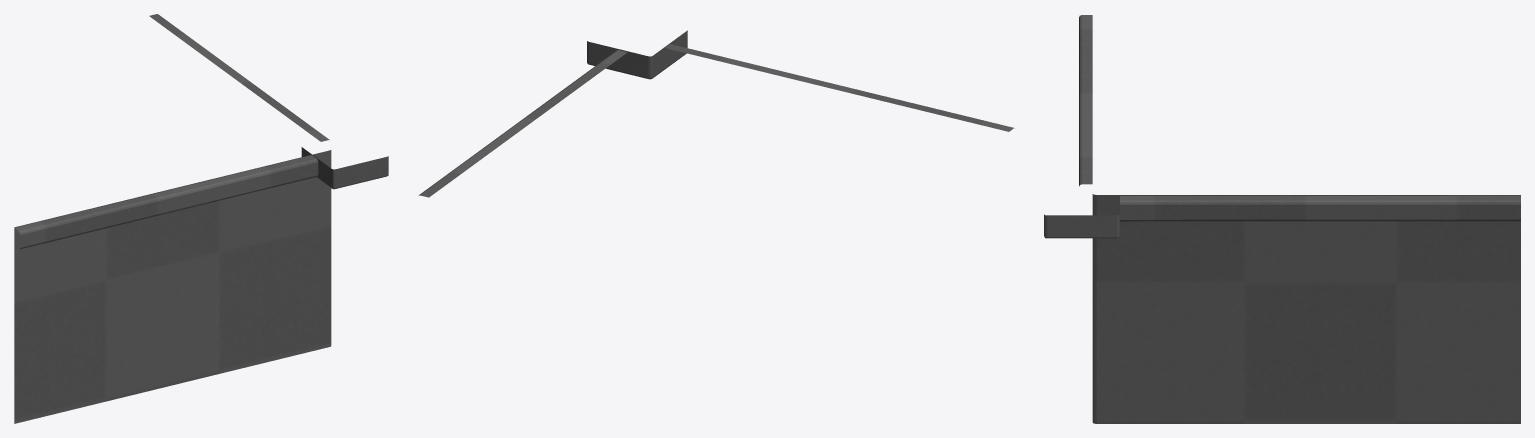
Rendered from SM_House_Base_Corner_A3.glb.
3 renders of one model, left to right at view 1: azimuth 30°, elevation 25°; view 2: azimuth 150°, elevation 25°; view 3: azimuth 270°, elevation 25°, orthographic. The views are drawn at different scales.
Visible parts, largest first — view 1: SM_House_Base_Corner_A3; view 2: SM_House_Base_Corner_A3; view 3: SM_House_Base_Corner_A3.
Boxes of the visible parts, x1,y1,x2,y2 form: SM_House_Base_Corner_A3: [14, 14, 388, 423]; SM_House_Base_Corner_A3: [418, 30, 1013, 197]; SM_House_Base_Corner_A3: [1044, 15, 1520, 423].
Size of the model in its own units: 94.3 by 50 by 94.3.
1 material, 1 textured.
